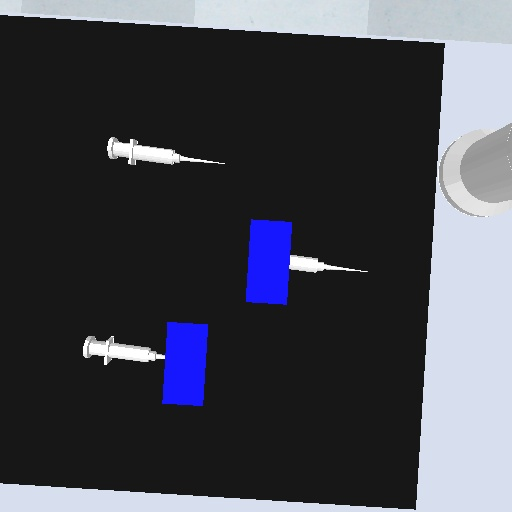jeringuilla: (103, 133, 231, 172), (80, 333, 167, 371), (287, 252, 372, 278)
